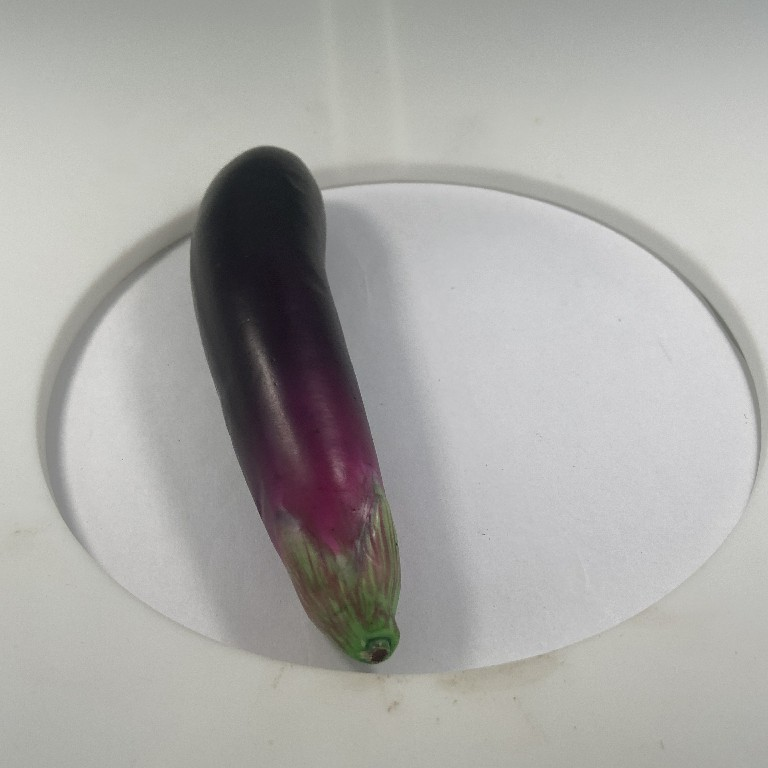fruit_eggplant: (182, 138, 420, 666)
